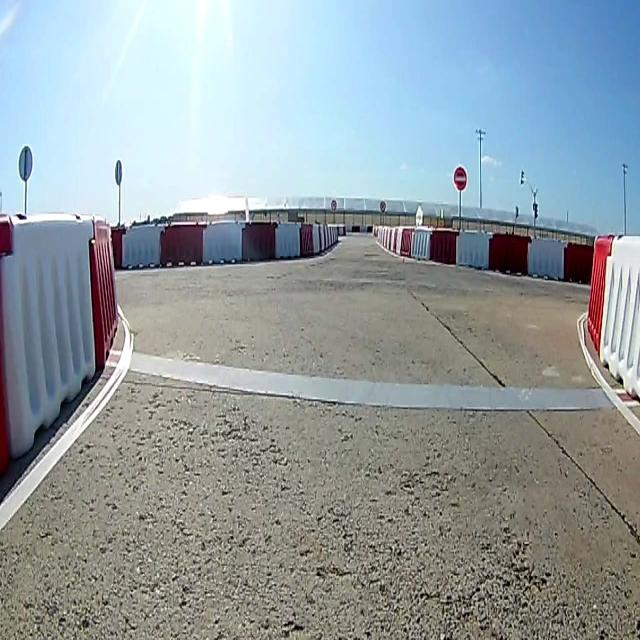girisyok: (452, 162, 470, 193)
